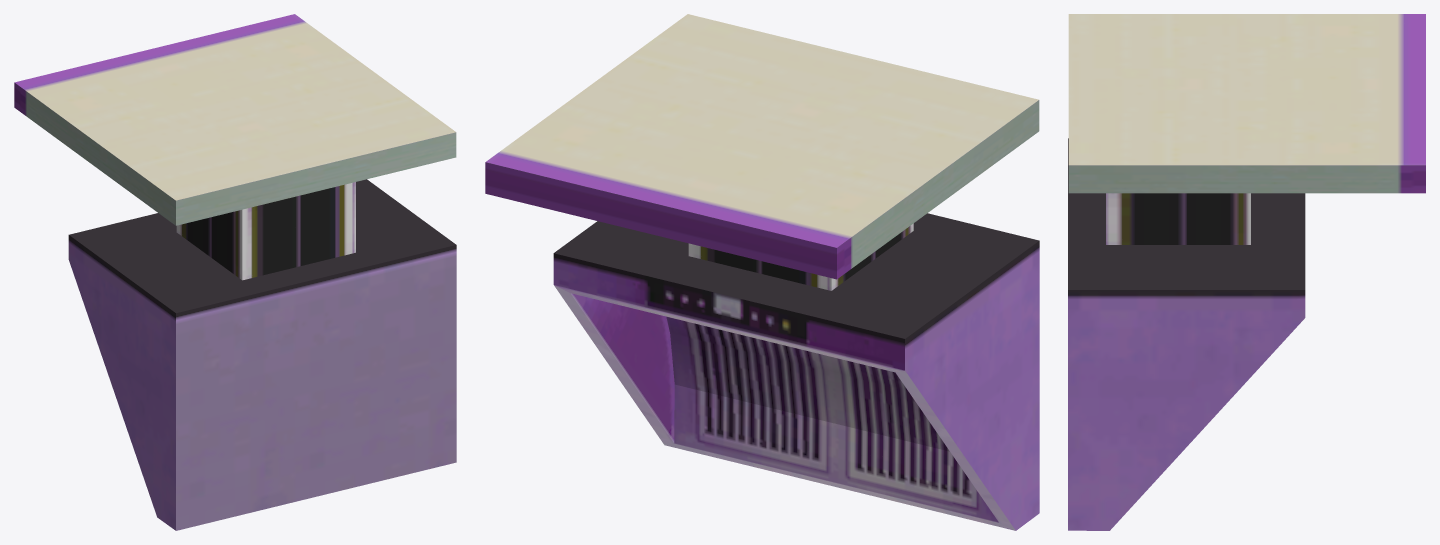
The model's file is furni_0200523_03.FBX.
3 views of the same model, side by side, from view 1: azimuth 30°, elevation 25°; view 2: azimuth 150°, elevation 25°; view 3: azimuth 270°, elevation 25° (orthographic). The views are drawn at different scales.
Visible parts, largest first — view 1: furni_0200523_03; view 2: furni_0200523_03; view 3: furni_0200523_03.
Part boxes in pixels (x1,y1,x2,y2): furni_0200523_03: (14,14,456,530); furni_0200523_03: (485,14,1039,530); furni_0200523_03: (1068,14,1425,530).
Size of the model in its own units: 80.01 by 90.06 by 79.89.
Materials: 1 (1 with a texture image).
